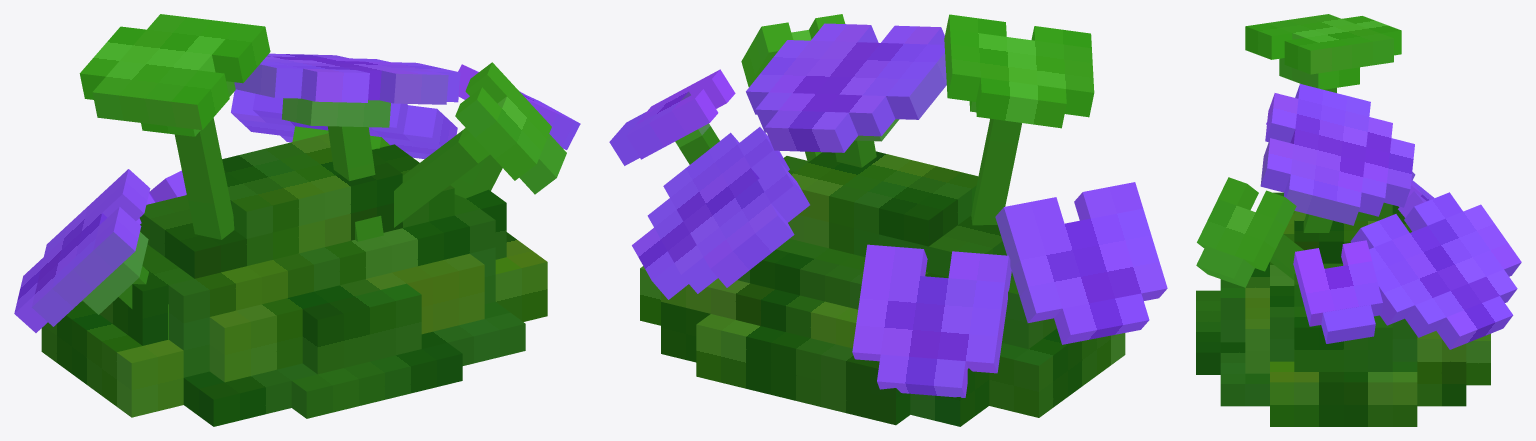
Rendered from deco_plant.glb.
The picture shows the model from 3 angles, left to right: view 1: azimuth 30°, elevation 25°; view 2: azimuth 150°, elevation 25°; view 3: azimuth 270°, elevation 25°; orthographic projection. The views are drawn at different scales.
Parts seen in each view (by area): view 1: hedgetiki-Local, top$$(4)-Local, flower-1-Local, top$$(5)-Local, top$$(3)-Local, top$$(6)-Local, top$$(1)-Local, box-2-Local, top-Local, top$$(2)-Local; view 2: hedgetiki-Local, top$$(3)-Local, top$$(5)-Local, top$$(2)-Local, top$$(1)-Local, top$$(4)-Local, flower-1-Local, top-Local, top$$(6)-Local, box-3-Local; view 3: hedgetiki-Local, top$$(1)-Local, top$$(3)-Local, top$$(4)-Local, top$$(6)-Local, top-Local, box-3-Local, box-2-Local, flower-1-Local, top$$(2)-Local.
Part boxes in pixels (x1,y1,x2,y2): hedgetiki-Local: (41, 133, 547, 426); top$$(4)-Local: (79, 14, 270, 136); flower-1-Local: (118, 118, 502, 339); top$$(5)-Local: (14, 169, 150, 332); top$$(3)-Local: (234, 53, 460, 127); top$$(6)-Local: (455, 62, 551, 180); top$$(1)-Local: (231, 89, 457, 158); box-2-Local: (519, 134, 566, 194); top-Local: (458, 64, 574, 146); top$$(2)-Local: (136, 170, 186, 224); hedgetiki-Local: (640, 151, 1125, 426); top$$(3)-Local: (746, 23, 946, 152); top$$(5)-Local: (995, 182, 1167, 344); top$$(2)-Local: (852, 244, 1011, 397); top$$(1)-Local: (632, 127, 809, 299); top$$(4)-Local: (944, 14, 1094, 128); flower-1-Local: (679, 118, 1021, 225); top-Local: (626, 69, 735, 159); top$$(6)-Local: (741, 14, 845, 86); box-3-Local: (609, 112, 645, 165); hedgetiki-Local: (1196, 192, 1490, 426); top$$(1)-Local: (1350, 192, 1521, 349); top$$(3)-Local: (1260, 84, 1414, 225); top$$(4)-Local: (1245, 14, 1401, 89); top$$(6)-Local: (1197, 177, 1296, 271); top-Local: (1293, 240, 1382, 326); box-3-Local: (1321, 305, 1375, 343); box-2-Local: (1196, 246, 1254, 287); flower-1-Local: (1270, 88, 1336, 280); top$$(2)-Local: (1398, 179, 1434, 217).
Size of the model in its own units: 21.41 by 13.48 by 13.26.
Materials: 12 (12 with a texture image).
